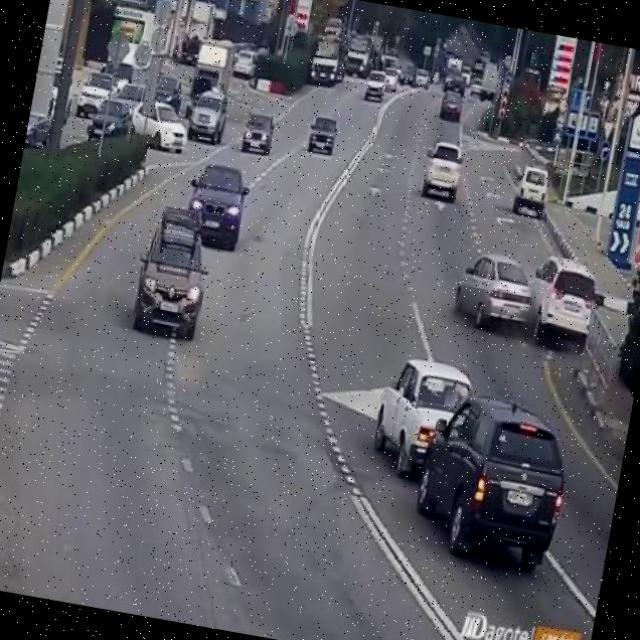accident: (492, 259, 584, 333)
